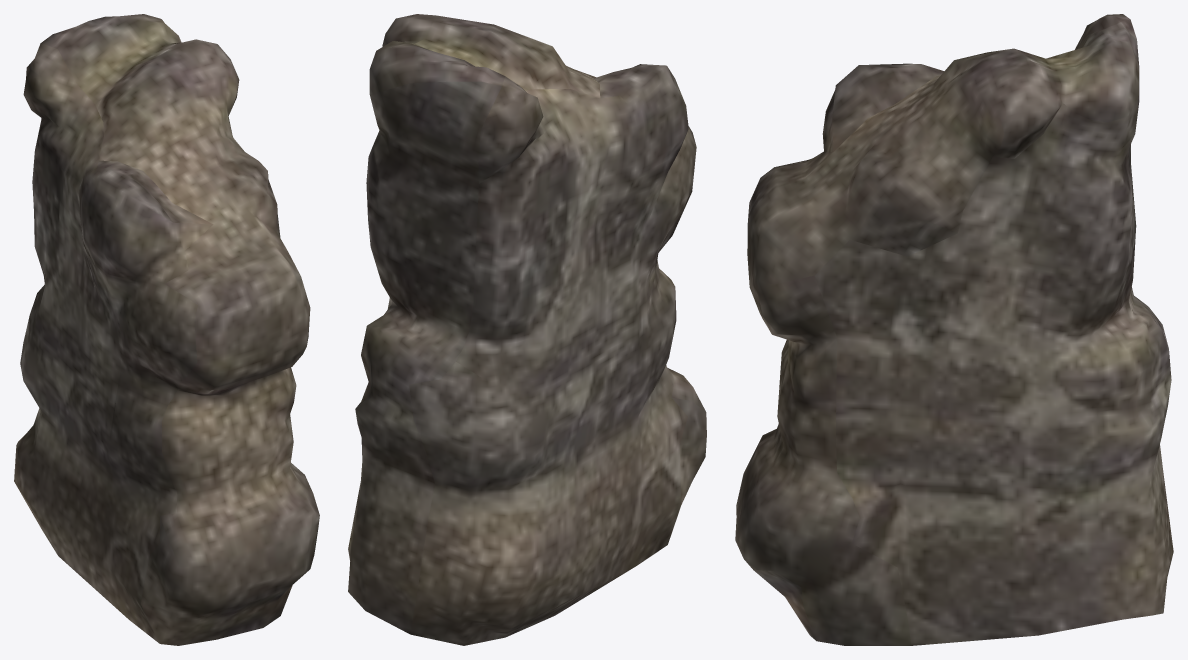
Rendered from Ruins_Wall_01-transformed.glb.
The picture shows the model from 3 angles, left to right: view 1: azimuth 30°, elevation 25°; view 2: azimuth 150°, elevation 25°; view 3: azimuth 270°, elevation 25°; orthographic projection. The views are drawn at different scales.
Parts seen in each view (by area): view 1: default; view 2: default; view 3: default.
Part boxes in pixels (x1=…): default: x1=14, y1=14, x2=319, y2=645; default: x1=348, y1=14, x2=706, y2=645; default: x1=735, y1=14, x2=1173, y2=645.
Size of the model in its own units: 0.651 by 1.67 by 1.13.
Materials: 1 (1 with a texture image).
